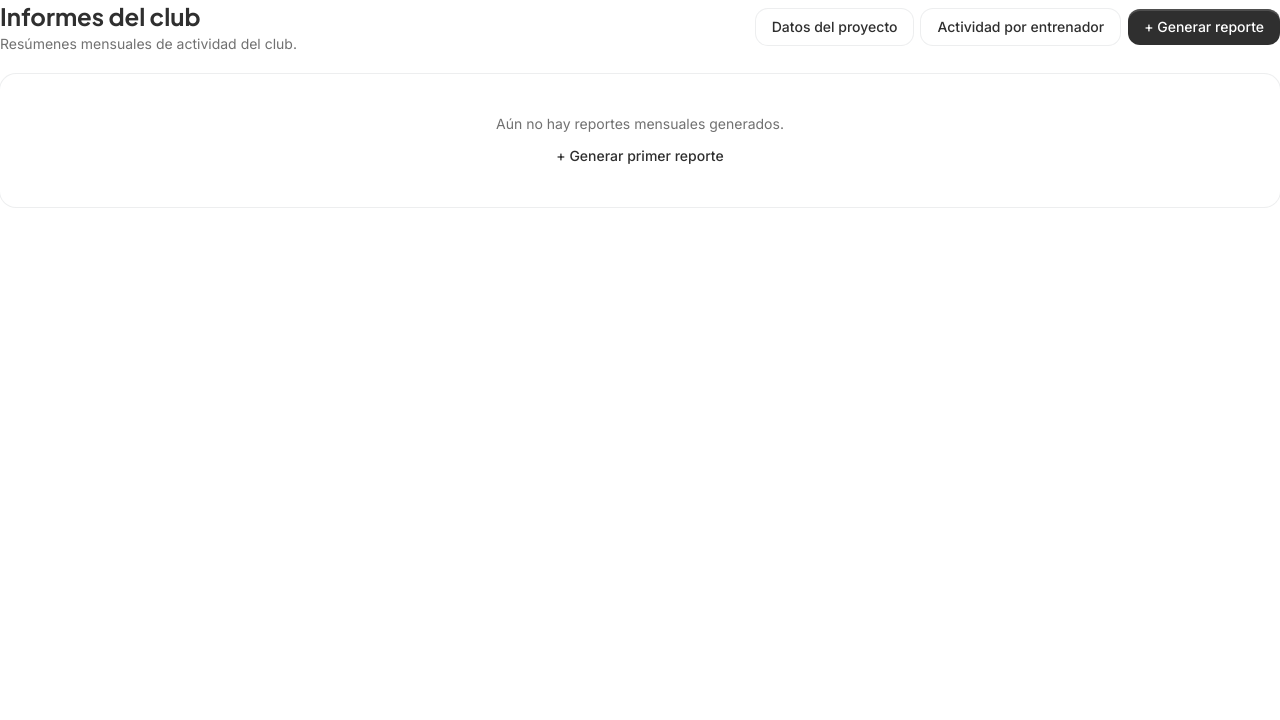
Scenario: ReportsListPage › abre el modal al presionar 'Generar reporte'
Click the button with test id "open-generate-modal".
click(1204, 27)  # box [1128, 9, 1279, 45]
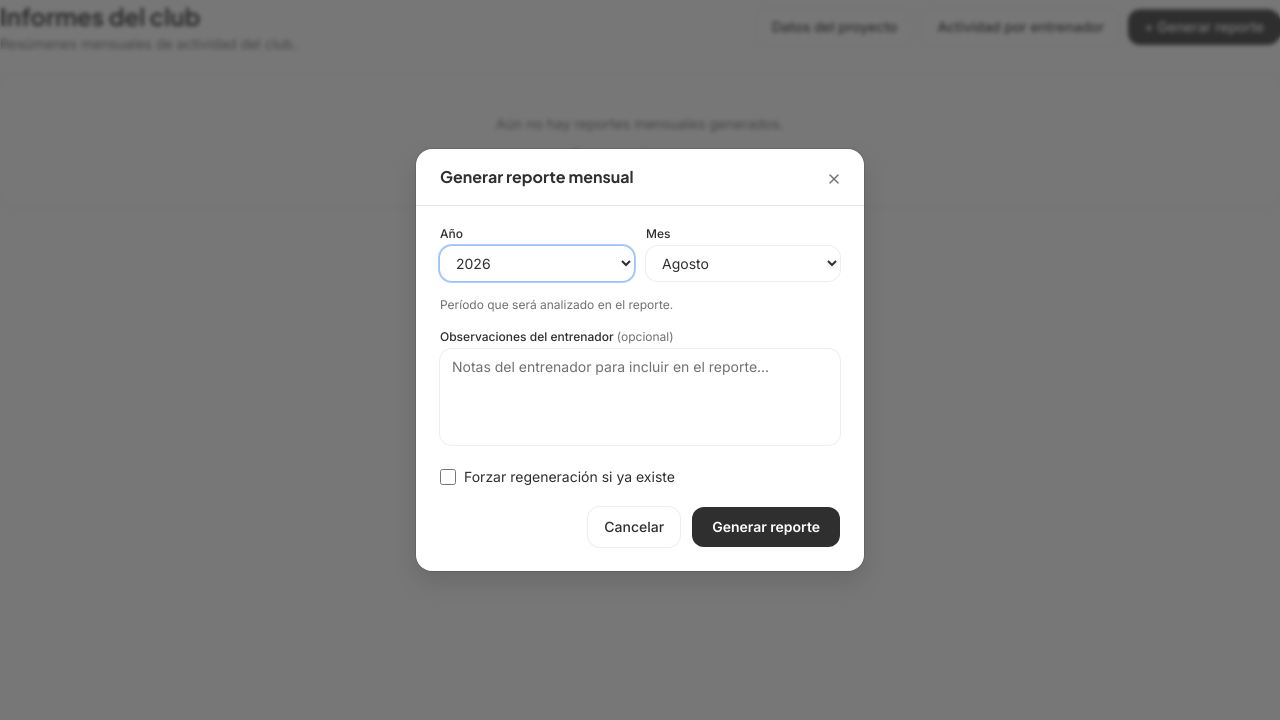
Check: the form with test id "generate-report-form" is shown, box [416, 206, 864, 571]
